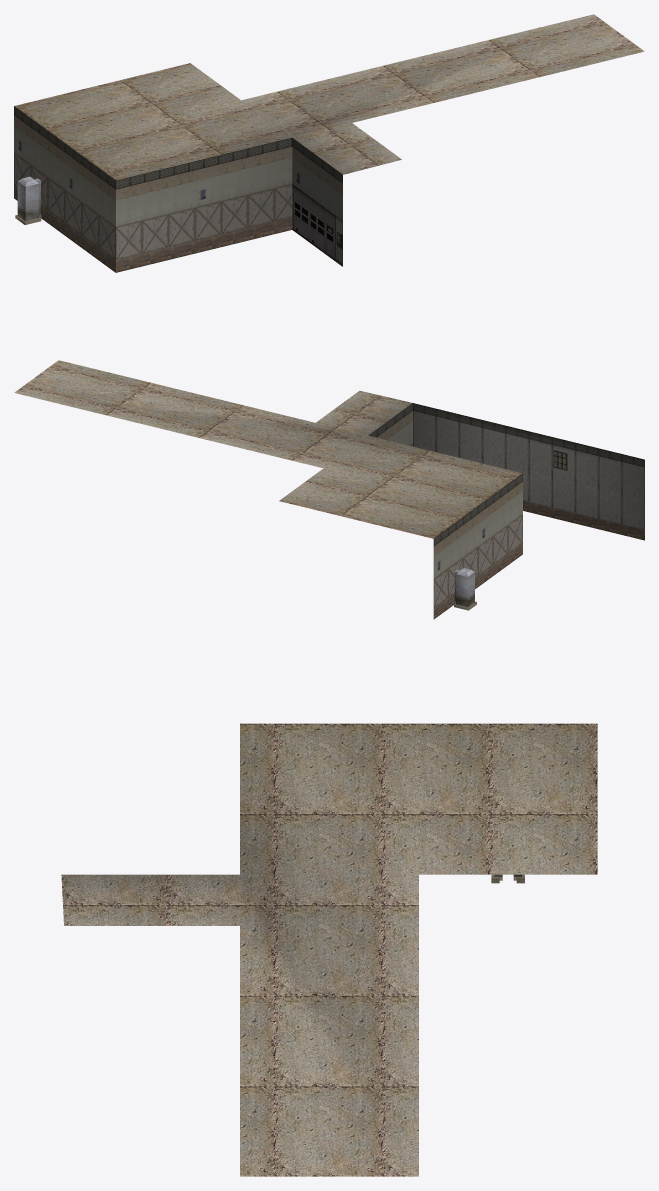
Rendered from M11Z1_TownWall09_B.glb.
The picture shows the model from 3 angles, top to bottom: view 1: azimuth 30°, elevation 25°; view 2: azimuth 150°, elevation 25°; view 3: azimuth 270°, elevation 25°; orthographic projection. The views are drawn at different scales.
Visible parts, largest first — view 1: M11Z1_TOWNWALL09_B; view 2: M11Z1_TOWNWALL09_B; view 3: M11Z1_TOWNWALL09_B.
Part boxes in pixels (bbox=[...]): M11Z1_TOWNWALL09_B: bbox=[14, 14, 644, 272]; M11Z1_TOWNWALL09_B: bbox=[14, 360, 644, 619]; M11Z1_TOWNWALL09_B: bbox=[61, 723, 597, 1176].
Bounding box in the file's own units: 56 × 8 × 24.
9 materials, 9 textured.
